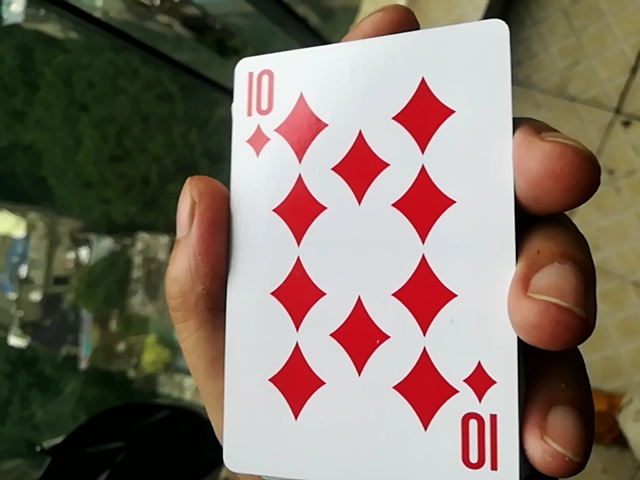fk 10: (226, 28, 530, 480)
